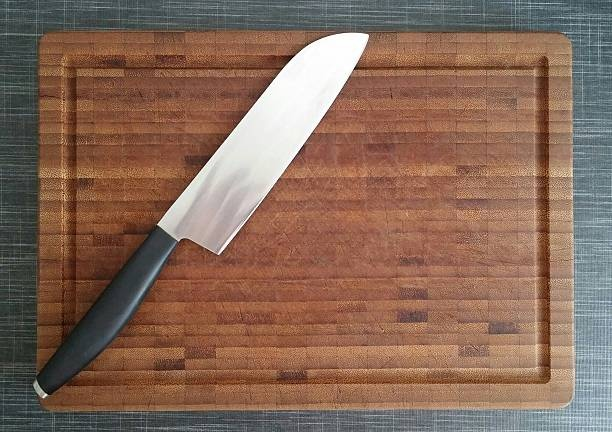knife: (28, 31, 371, 400)
